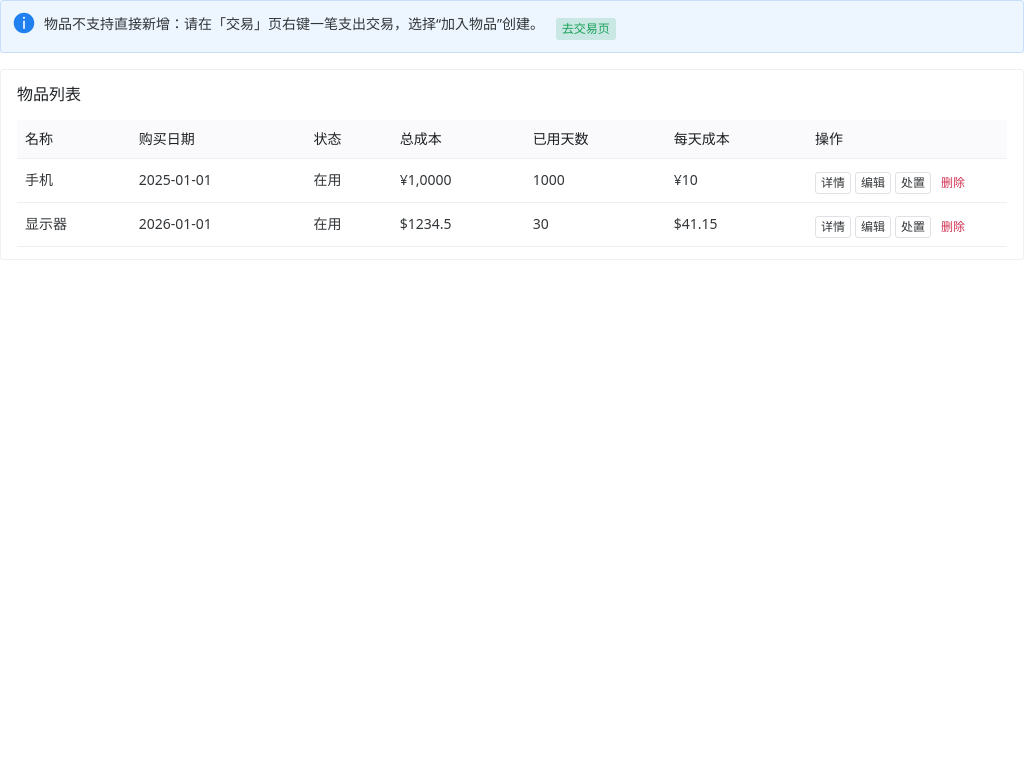
it: ItemsView 物品详情（issue #117） › 点详情打开弹窗并展示成本分解：分子 ÷ 天数 = 每天成本
The image size is (1024, 768).
Click the button "详情" in the row of "手机": (833,183) [815,172,851,194]
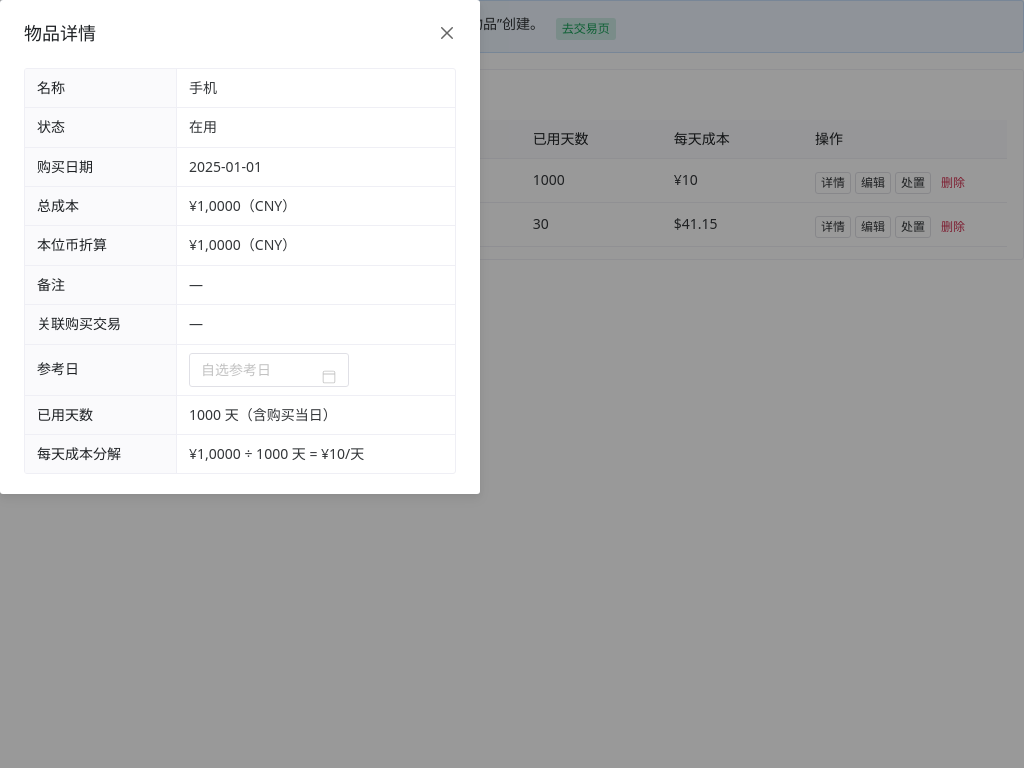
Result: the dialog with test id "item-detail-modal" is shown at [0,0,480,494]
Result: the dialog with test id "item-detail-modal" shows "手机" at [189,78,217,97]
Result: the dialog with test id "item-detail-modal" shows "1000" at [189,404,337,424]
